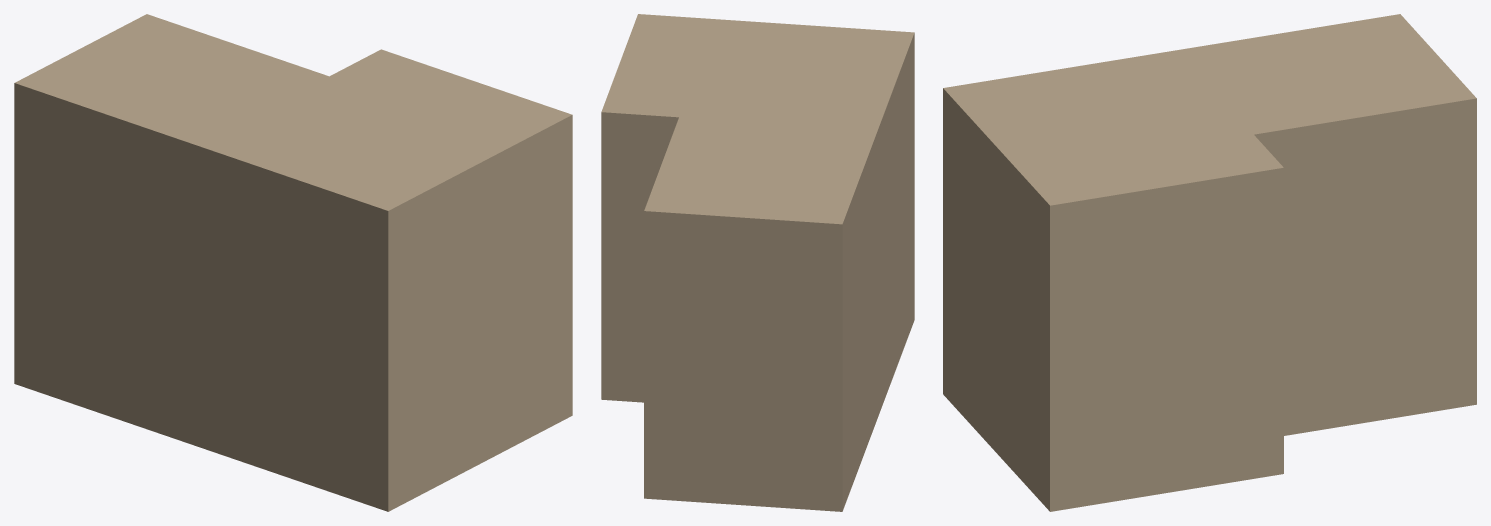
File: bld_106415207.dae
3 renders of one model, left to right at view 1: azimuth 30°, elevation 25°; view 2: azimuth 150°, elevation 25°; view 3: azimuth 270°, elevation 25°, orthographic. The views are drawn at different scales.
Parts seen in each view (by area): view 1: bld_106415207; view 2: bld_106415207; view 3: bld_106415207.
Boxes of the visible parts, x1,y1,x2,y2 form: bld_106415207: (14,14,572,511); bld_106415207: (601,14,914,511); bld_106415207: (943,14,1476,511).
Size of the model in its own units: 10.74 by 12.64 by 8.
